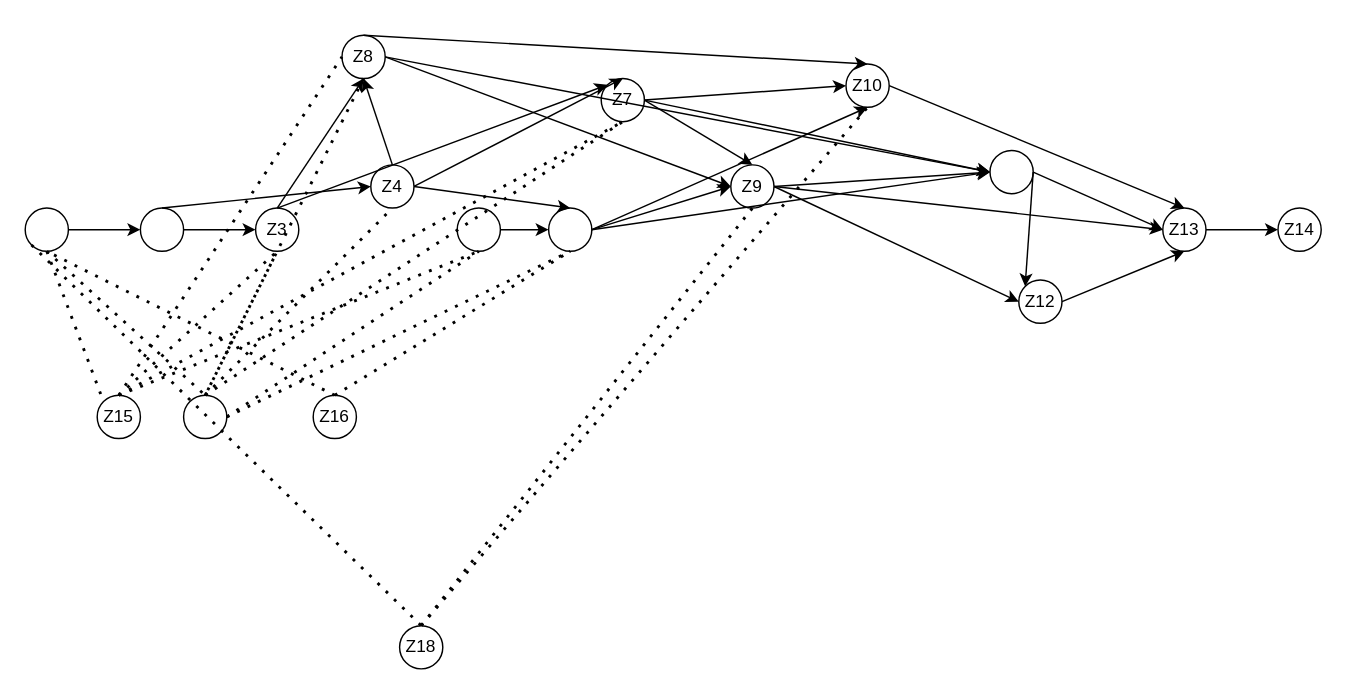
Image size: 1346x694. Some labels were removed from this diagram. The centre of each missing label's shape, as x and y in pixels:
Z1: point (46, 229)
Z11: point (1011, 171)
Z17: point (204, 416)
Z2: point (161, 229)
Z5: point (478, 229)
Z6: point (569, 229)
